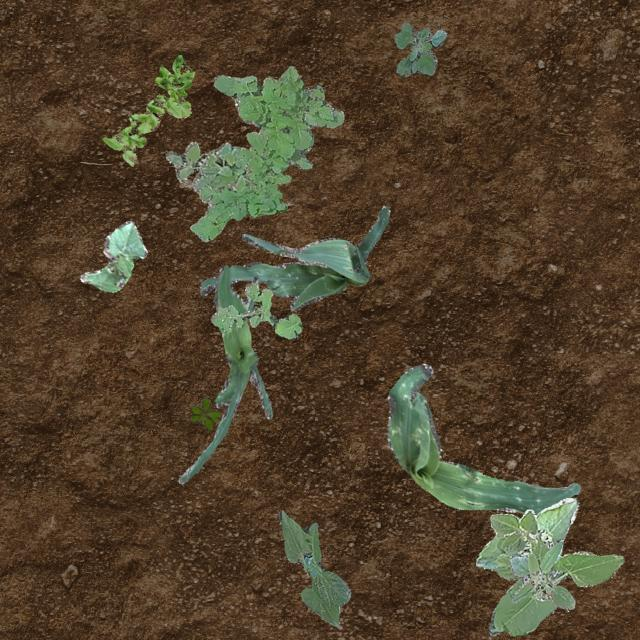crop: (386, 362, 580, 514), (178, 264, 272, 482), (198, 204, 388, 310), (474, 498, 622, 634), (278, 509, 350, 626), (80, 220, 146, 292)
weed: (188, 64, 342, 240), (100, 54, 194, 164), (210, 282, 302, 338), (508, 538, 574, 608), (164, 140, 244, 190), (394, 21, 446, 76), (190, 396, 218, 428)
